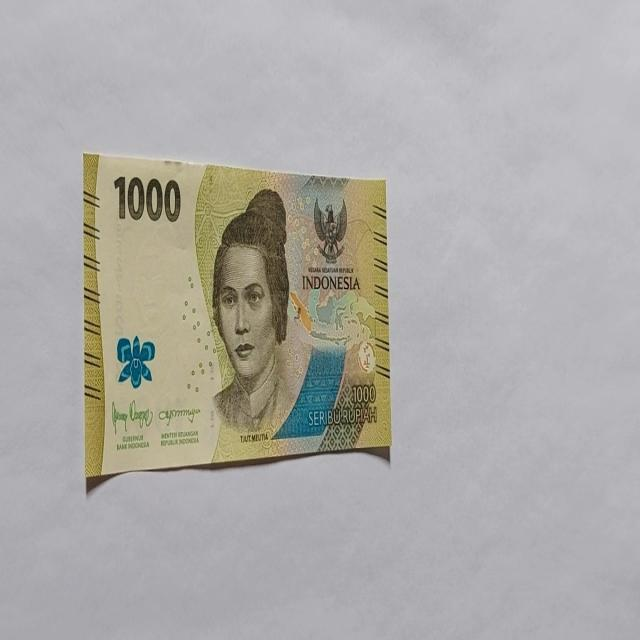seribu rupiah kertas: (82, 149, 392, 488)
